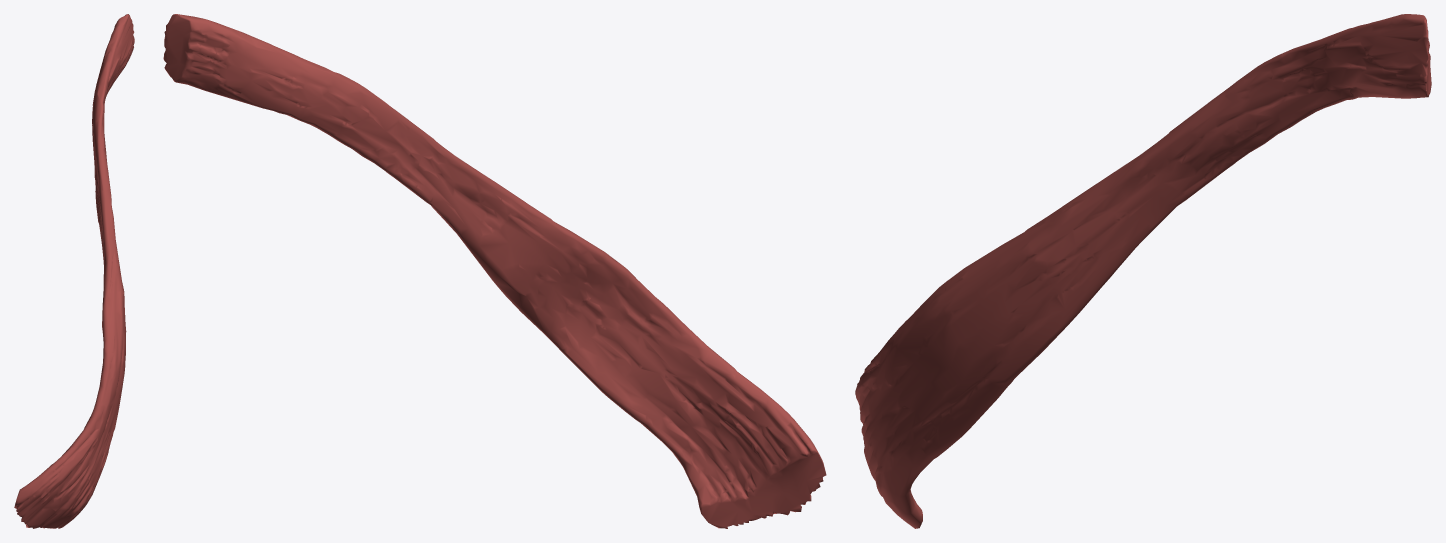
Rendered from FMA45875.glb.
The picture shows the model from 3 angles, left to right: view 1: azimuth 30°, elevation 25°; view 2: azimuth 150°, elevation 25°; view 3: azimuth 270°, elevation 25°; orthographic projection. The views are drawn at different scales.
Parts seen in each view (by area): view 1: FMA45875; view 2: FMA45875; view 3: FMA45875.
Boxes of the visible parts, x1,y1,x2,y2 form: FMA45875: (14, 14, 134, 528); FMA45875: (163, 14, 826, 528); FMA45875: (855, 14, 1431, 528).
Bounding box in the file's own units: 0.129 × 0.171 × 0.1286.
